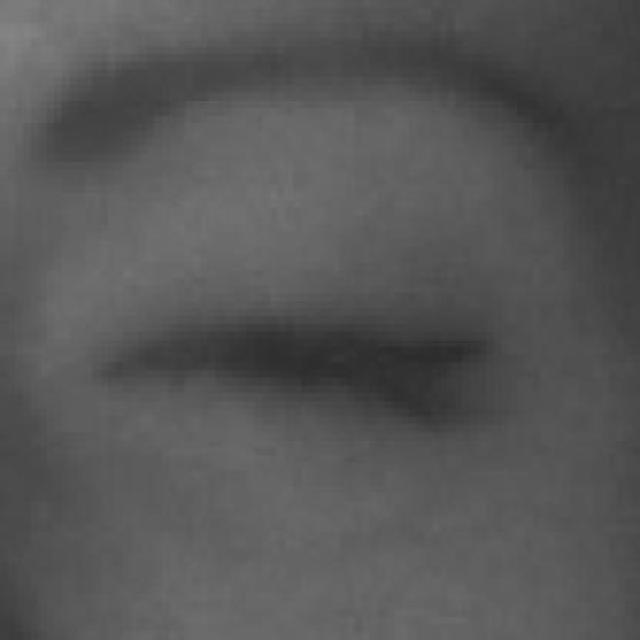drowsy: (112, 208, 476, 532)
